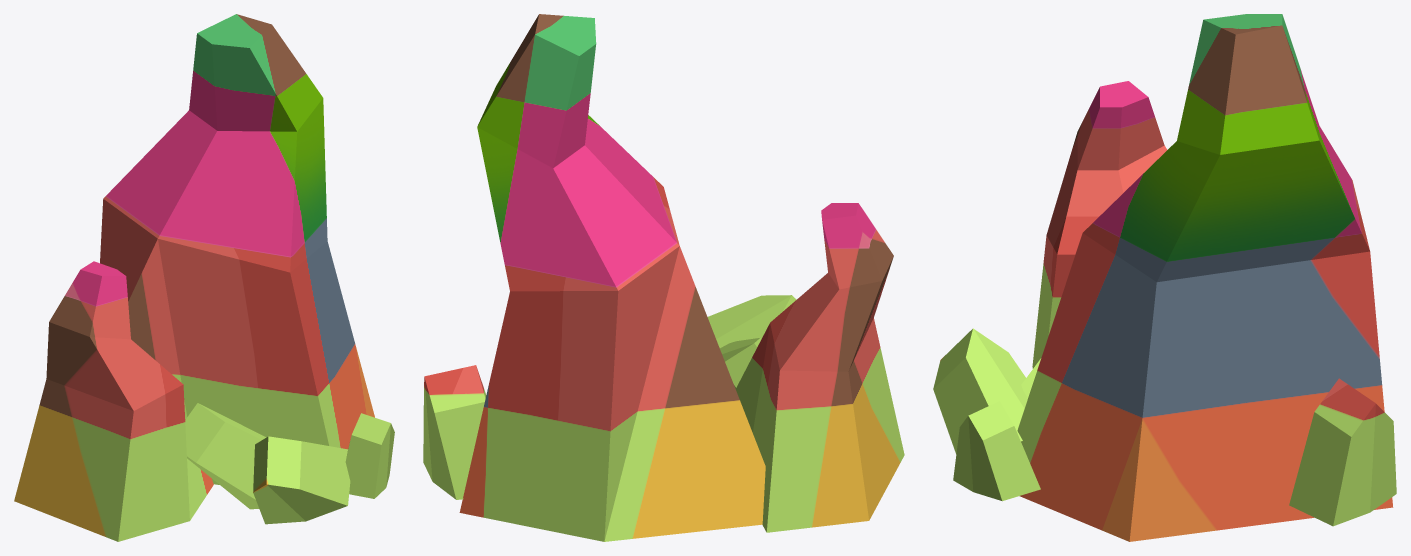
File: rock_21.fbx
3 renders of one model, left to right at view 1: azimuth 30°, elevation 25°; view 2: azimuth 150°, elevation 25°; view 3: azimuth 270°, elevation 25°, orthographic. The views are drawn at different scales.
Parts seen in each view (by area): view 1: rock_21; view 2: rock_21; view 3: rock_21.
Part boxes in pixels (<box>): rock_21: <box>14,14,394,541</box>; rock_21: <box>423,14,904,541</box>; rock_21: <box>933,14,1396,541</box>.
Bounding box in the file's own units: 181 × 210 × 180.
